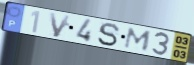1: (30, 10, 42, 34)
3: (151, 32, 171, 57)
4: (75, 18, 94, 44)
M: (122, 27, 153, 53)
S: (97, 22, 122, 48)
V: (48, 11, 73, 39)
